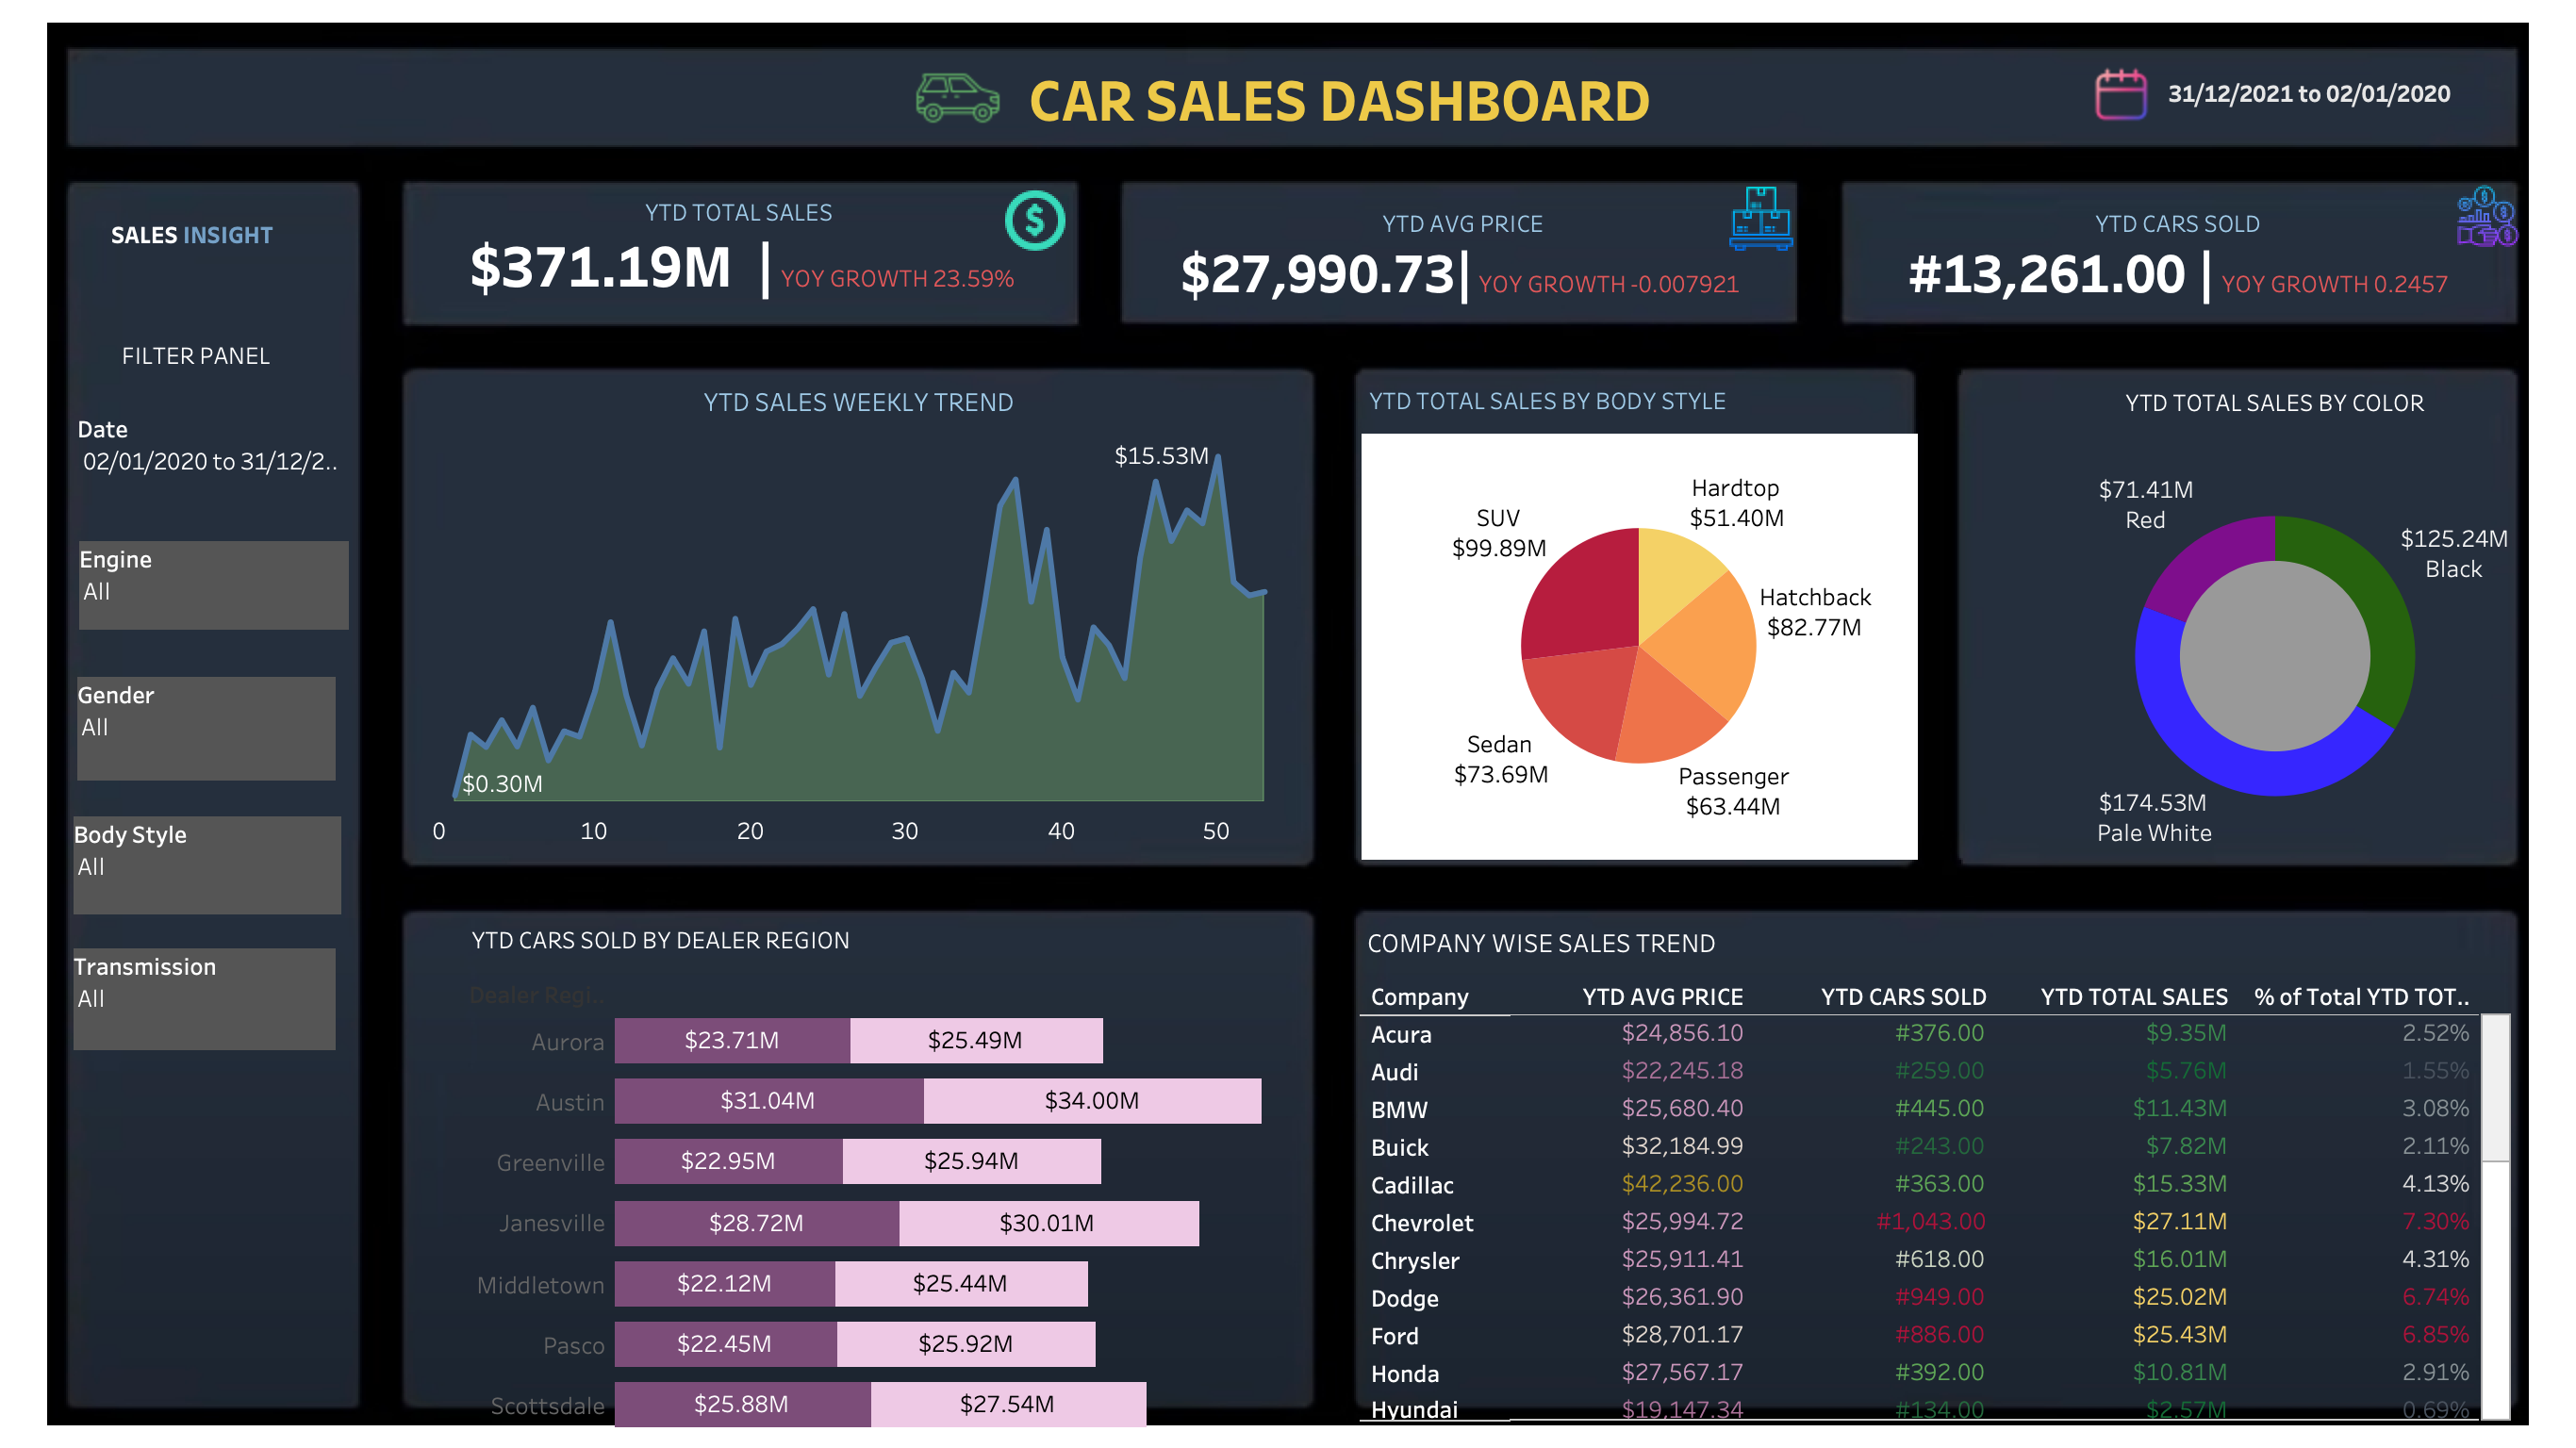

The page's visual inventory and layout, read from the dashboard file:
{"tool":"tableau","page":{"name":"Dashboard 1","canvas":[1366,768],"ordinal":0},"visuals":[{"type":"image","param":"/private/var/folders/yq/50_cv34j7vnbj2tfv0kzn90m0000gn/T/com.apple.Photos.NSItem","box":[8,8,1350,752]},{"type":"image","param":"/Users/vedantatri/Downloads/Car Icon.png","box":[447,26,122,52]},{"type":"worksheet","title":"Sheet 9","mark":"Automatic","box":[1104,26,243,47]},{"type":"text","box":[543,32,336,40]},{"type":"image","param":"/Users/vedantatri/Downloads/calendar.png","box":[1087,35,76,30]},{"type":"worksheet","title":"YTD Total Sales","mark":"Automatic","box":[216,95,354,75]},{"type":"image","param":"/Users/vedantatri/Downloads/icon_pricing.svg","box":[517,98,64,38]},{"type":"image","param":"/Users/vedantatri/Downloads/Avg Price Icon.png","box":[905,98,58,36]},{"type":"image","param":"/Users/vedantatri/Downloads/Cars Sold Icon.png","box":[1288,98,63,33]},{"type":"worksheet","title":"YTD Cars Sold","mark":"Automatic","box":[978,100,356,74]},{"type":"worksheet","title":"YTD Avg Price","mark":"Automatic","box":[597,101,356,72]},{"type":"text","box":[52,109,100,30]},{"type":"text","box":[54,173,100,30]},{"type":"worksheet","title":"YTD Sales Weekly Trend","mark":"Area","rows":["Calculation_5586152443734511616","Calculation_5586152443734511616"],"cols":["Date"],"box":[216,198,479,257]},{"type":"worksheet","title":"YTD Total Sales by Body Style","mark":"Pie","box":[722,198,294,257]},{"type":"filter","title":"YTD Sales Weekly Trend","param":"[federated.0bvaz8r1ld26x31a0nwp70alevyr].[none:Date:qk]","box":[41,218,143,48]},{"type":"filter","title":"YTD Sales Weekly Trend","param":"[federated.0bvaz8r1ld26x31a0nwp70alevyr].[none:Engine:nk]","box":[42,287,143,47]},{"type":"filter","title":"YTD Sales Weekly Trend","param":"[federated.0bvaz8r1ld26x31a0nwp70alevyr].[none:Gender:nk]","box":[41,359,137,55]},{"type":"filter","title":"YTD Sales Weekly Trend","param":"[federated.0bvaz8r1ld26x31a0nwp70alevyr].[none:Body Style:nk]","box":[39,433,142,52]},{"type":"worksheet","title":"YTD Cars Sold By Dealer Region","mark":"Automatic","rows":["Dealer_Region"],"cols":["Calculation_5586152443734511616"],"box":[246,484,440,277]},{"type":"worksheet","title":"Company Wise Sales Trend","mark":"Automatic","rows":["Company"],"box":[721,485,611,269]},{"type":"filter","title":"YTD Sales Weekly Trend","param":"[federated.0bvaz8r1ld26x31a0nwp70alevyr].[none:Transmission:nk]","box":[39,503,139,54]}]}

Visuals, with their boxes in screenshot pixels (x1, y1, x2, y2), scaled from the page's 1366x768 canvas onto the 2576x1448 screenshot:
image: [x1=15, y1=15, x2=2561, y2=1433]
image: [x1=843, y1=49, x2=1073, y2=147]
"Sheet 9" worksheet: [x1=2082, y1=49, x2=2540, y2=138]
text: [x1=1024, y1=60, x2=1658, y2=136]
image: [x1=2050, y1=66, x2=2193, y2=123]
"YTD Total Sales" worksheet: [x1=407, y1=179, x2=1075, y2=321]
image: [x1=975, y1=185, x2=1096, y2=256]
image: [x1=1707, y1=185, x2=1816, y2=253]
image: [x1=2429, y1=185, x2=2548, y2=247]
"YTD Cars Sold" worksheet: [x1=1844, y1=189, x2=2516, y2=328]
"YTD Avg Price" worksheet: [x1=1126, y1=190, x2=1797, y2=326]
text: [x1=98, y1=206, x2=287, y2=262]
text: [x1=102, y1=326, x2=290, y2=383]
"YTD Sales Weekly Trend" worksheet (Area marks): [x1=407, y1=373, x2=1311, y2=858]
"YTD Total Sales by Body Style" worksheet (Pie marks): [x1=1362, y1=373, x2=1916, y2=858]
"YTD Sales Weekly Trend" filter: [x1=77, y1=411, x2=347, y2=502]
"YTD Sales Weekly Trend" filter: [x1=79, y1=541, x2=349, y2=630]
"YTD Sales Weekly Trend" filter: [x1=77, y1=677, x2=336, y2=781]
"YTD Sales Weekly Trend" filter: [x1=74, y1=816, x2=341, y2=914]
"YTD Cars Sold By Dealer Region" worksheet: [x1=464, y1=913, x2=1294, y2=1435]
"Company Wise Sales Trend" worksheet: [x1=1360, y1=914, x2=2512, y2=1422]
"YTD Sales Weekly Trend" filter: [x1=74, y1=948, x2=336, y2=1050]
